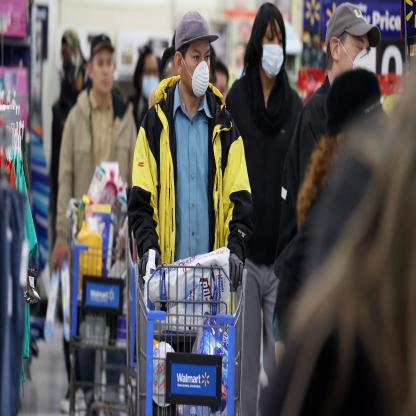Not_Wearing_Mask: (91, 38, 117, 95)
Wearing_Mask: (180, 16, 213, 113), (335, 23, 372, 96), (262, 17, 284, 87), (138, 54, 160, 102)
